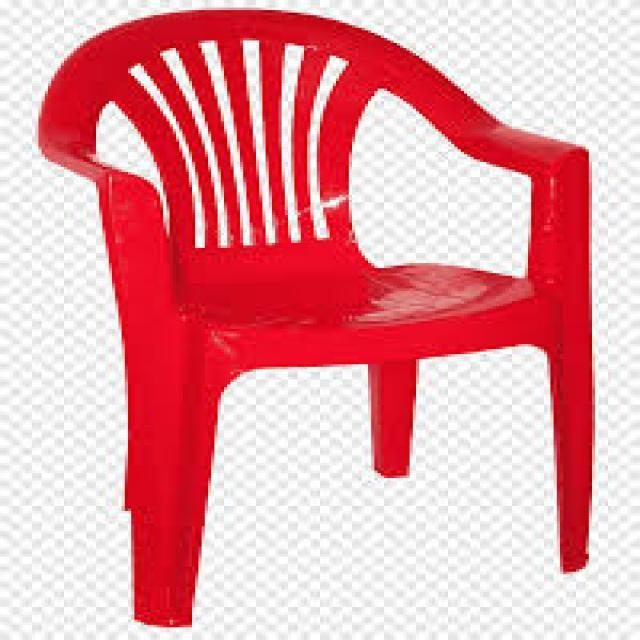chair: (24, 1, 604, 630)
